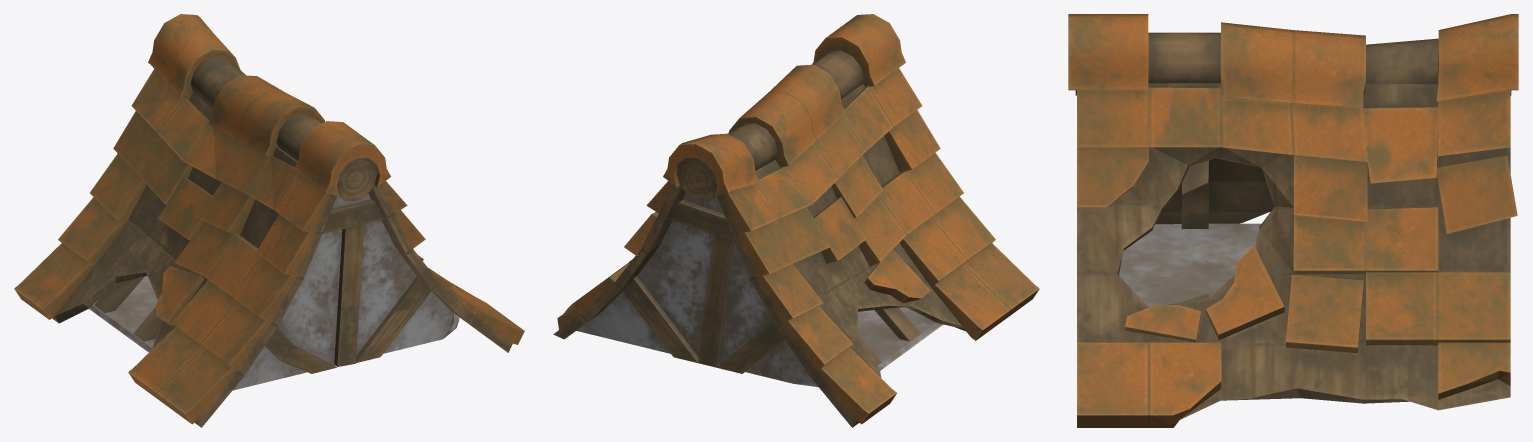
The model's file is sb_obj_outdoor029_house01_roof_a_ruins.fbx.
3 renders of one model, left to right at view 1: azimuth 30°, elevation 25°; view 2: azimuth 150°, elevation 25°; view 3: azimuth 270°, elevation 25°, orthographic. The views are drawn at different scales.
Parts seen in each view (by area): view 1: sb_obj_outdoor029_house01_roof_a_ruins; view 2: sb_obj_outdoor029_house01_roof_a_ruins; view 3: sb_obj_outdoor029_house01_roof_a_ruins.
Boxes of the visible parts, box(x1,y1,x2,y2) form: sb_obj_outdoor029_house01_roof_a_ruins: box(14, 14, 524, 427); sb_obj_outdoor029_house01_roof_a_ruins: box(553, 14, 1039, 427); sb_obj_outdoor029_house01_roof_a_ruins: box(1068, 14, 1518, 427).
Size of the model in its own units: 3.78 by 2.65 by 3.43.
